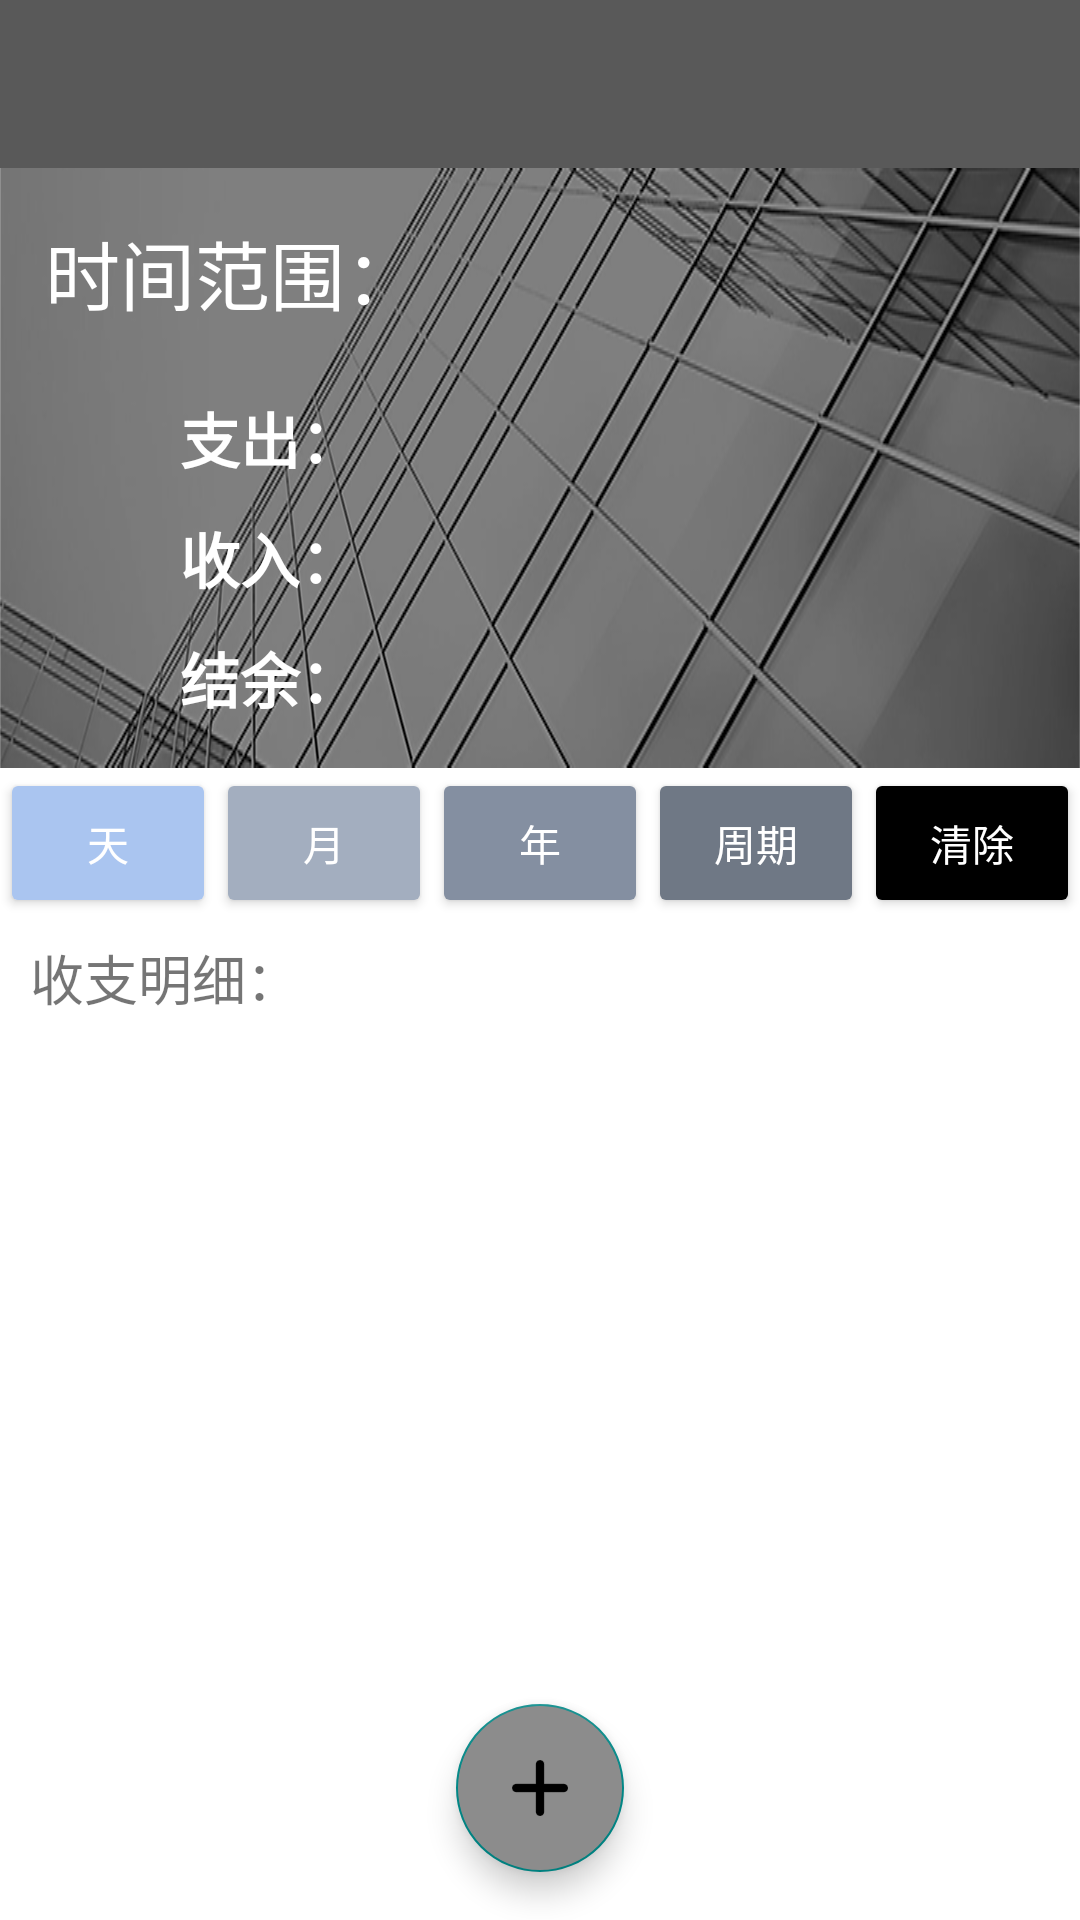

Point at icon controls on the screen. Image size 1080x1920, points as (x,y).
记账: (540,1788)
